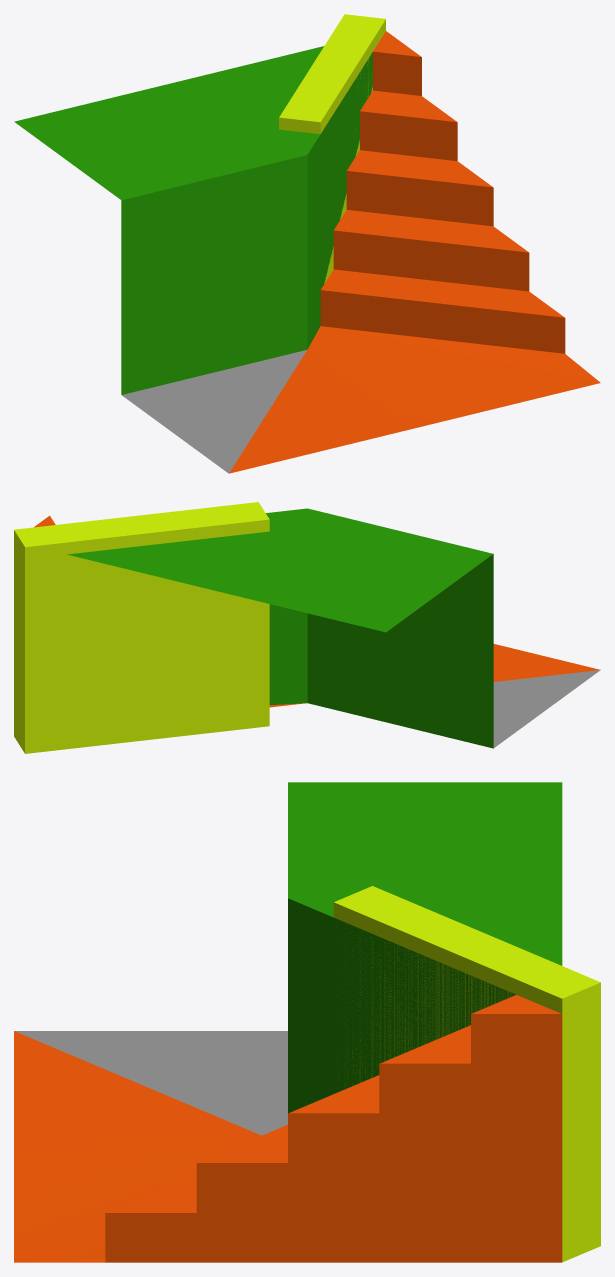
3 views of the same model, one above another, from view 1: azimuth 30°, elevation 25°; view 2: azimuth 150°, elevation 25°; view 3: azimuth 270°, elevation 25° (orthographic). The views are drawn at different scales.
Visible parts, largest first — view 1: T_3_6_0; view 2: T_3_6_0; view 3: T_3_6_0.
Boxes of the visible parts, <box> form: T_3_6_0: <box>14,14,600,473</box>; T_3_6_0: <box>14,502,600,753</box>; T_3_6_0: <box>14,782,600,1262</box>.
Bounding box in the file's own units: 99.79 × 52.98 × 107.
